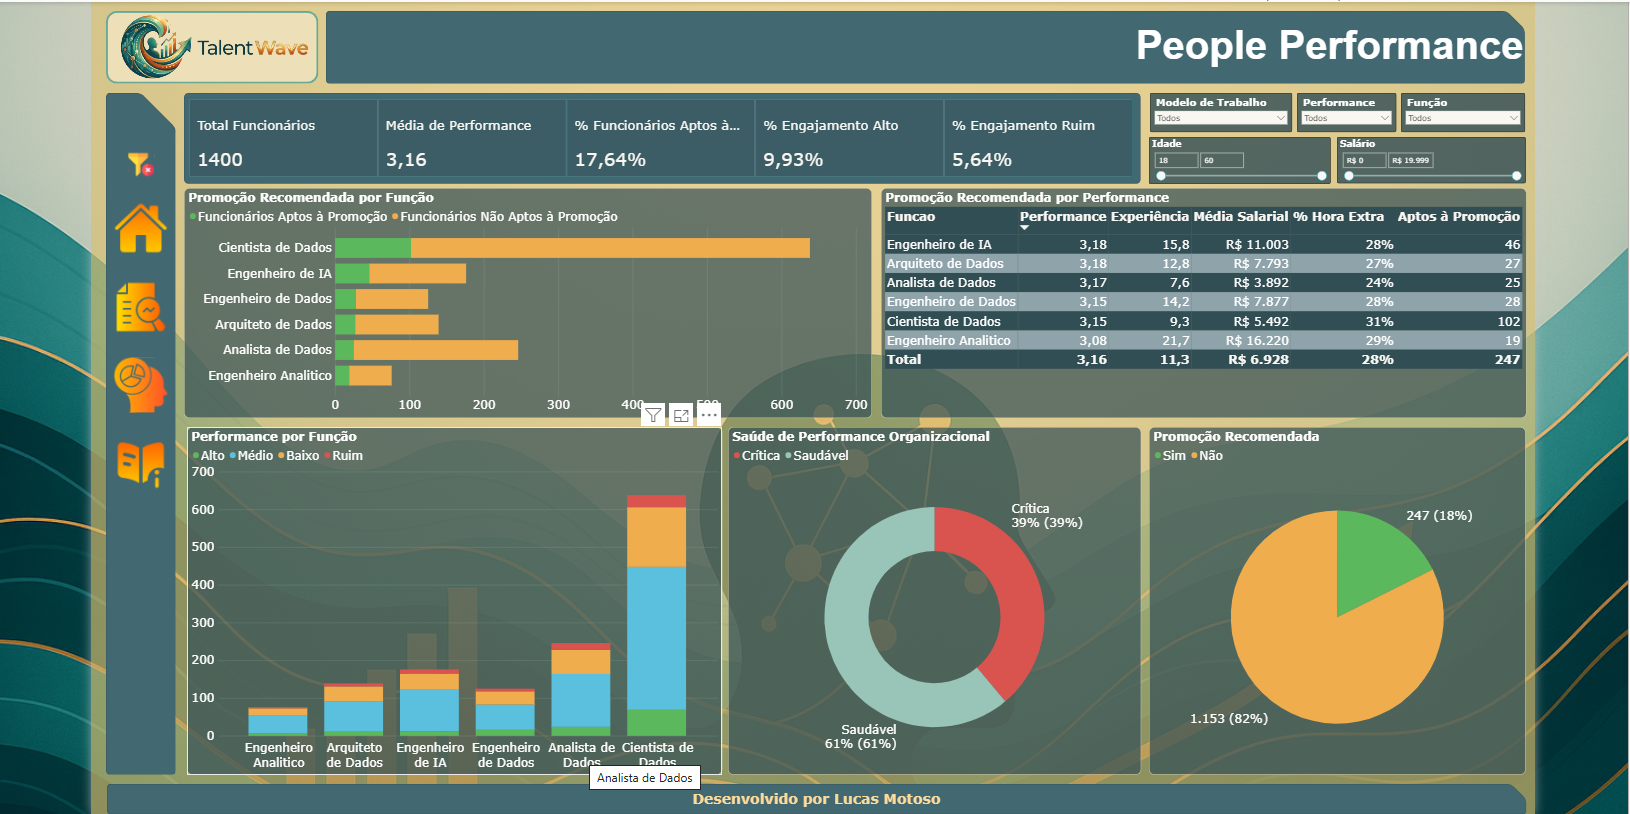

The page's visual inventory and layout, read from the dashboard file:
{"tool":"powerbi","page":{"name":"People Performance","canvas":[3840,2160],"ordinal":1},"visuals":[{"type":"group","id":"g1","title":"Logo Talent Wave","box":[0,23.6,658.2,193.4],"z":0},{"type":"shape","title":"Shape do Logo","box":[40.1,23.6,564.9,193.2],"z":0,"group":"g1"},{"type":"shape","box":[248.1,241.6,2545,241.6],"z":0,"group":"g2"},{"type":"image","title":"Logo","box":[0,23.6,658.2,190.7],"z":1000,"group":"g1"},{"type":"cardVisual","title":"Total de Funcionários","fields":{"Data":["Medidas.Total Funcionários","Medidas.Média de Performance","Medidas.% Funcionários Aptos à Promoção","Medidas.% Engajamento Alto","Medidas.% Engajamento Ruim"]},"box":[254.9,252,2522.2,218.9],"z":1000,"group":"g2"},{"type":"shape","title":"Footer","box":[41.9,2081.1,3775.6,80.5],"z":1000},{"type":"textbox","title":"Texto do Footer","box":[1534.7,2090.1,789.9,64.5],"z":2000},{"type":"shape","title":"Forma Superior","box":[625.5,23.6,3189.3,193.3],"z":3000},{"type":"shape","title":"Forma lateral esquerda","box":[40.3,241.8,185.4,1813.4],"z":4000},{"type":"barChart","title":"Promoção Recomendada por Função","fields":{"Category":["DimFuncao.Funcao"],"Y":["Medidas.Funcionários Aptos à Promoção","Medidas.Funcionários Não Aptos à Promoção"]},"box":[248.1,496.1,1829.8,612.1],"z":5000},{"type":"donutChart","title":"Saúde de Performance Organizacional","fields":{"Y":["Medidas.% Performance Crítica","Medidas.% Performance Saudável"]},"box":[1694.5,1130.7,1098.5,924.6],"z":6000},{"type":"pieChart","title":"Promoção Recomendada","fields":{"Category":["FactFuncionarios.Promocao_Recomendada"],"Y":["Medidas.Funcionários Aptos à Promoção","Medidas.Funcionários Não Aptos à Promoção"]},"box":[2815.6,1130.7,1001.9,924.6],"z":7000},{"type":"group","id":"g2","title":"Grupo 1","box":[248.1,241.6,2545,241.6],"z":8000},{"type":"slicer","fields":{"Values":["DimViagem.Viagem"]},"box":[2816,242,378,104],"z":9000},{"type":"slicer","fields":{"Values":["DimFuncao.Funcao"]},"box":[3486,242,330,104],"z":10000},{"type":"textbox","box":[2220.2,48.8,1594.6,141.7],"z":11000},{"type":"columnChart","title":"Performance por Função","fields":{"Category":["DimFuncao.Funcao"],"Y":["Medidas.Total Envolvimento Alto","Medidas.Total Envolvimento Médio","Medidas.Total Envolvimento Baixo","Medidas.Total Envolvimento Ruim"]},"box":[254.5,1130.7,1423.9,924.6],"z":12000},{"type":"pivotTable","title":"Promoção Recomendada  por Performance","fields":{"Rows":["DimFuncao.Funcao"],"Values":["Medidas.Média de Performance","Medidas.Experiência Média (Anos)","Medidas.Salário Médio Mensal","Medidas.% Disponíveis Hora Extra","Medidas.Funcionários Aptos à Promoção"]},"box":[2100.4,496.1,1717,612.1],"z":13000},{"type":"slicer","fields":{"Values":["FactFuncionarios.Indice_Envolvimento_Trabalho"]},"box":[3208,242,264,104],"z":14000},{"type":"actionButton","box":[39.9,393,186.8,77.3],"z":15000},{"type":"actionButton","box":[38.3,524.3,190.1,154.6],"z":16000},{"type":"actionButton","box":[38.3,732.9,190.1,154.6],"z":17000},{"type":"actionButton","box":[38.3,941.5,190.1,154.6],"z":18000},{"type":"actionButton","box":[38.3,1150.1,190.1,154.6],"z":19000},{"type":"slicer","title":"Idade","fields":{"Values":["FactFuncionarios.Idade"]},"box":[2815,358.3,483.3,125],"z":20000},{"type":"slicer","title":"Salário","fields":{"Values":["FactFuncionarios.Salario_Mensal"]},"box":[3315,360,501.7,123.3],"z":21000}]}

Visuals, with their boxes on the page's 3840x2160 design canvas (x1, y1, x2, y2). These are canvas units, not pixel positions in the 1630x814 screenshot, which may show the page scaled, cropped or inside an application window:
"Logo Talent Wave" group: <bbox>0, 24, 658, 217</bbox>
"Shape do Logo" shape: <bbox>40, 24, 605, 217</bbox>
shape: <bbox>248, 242, 2793, 483</bbox>
"Logo" image: <bbox>0, 24, 658, 214</bbox>
"Total de Funcionários" cardVisual: <bbox>255, 252, 2777, 471</bbox>
"Footer" shape: <bbox>42, 2081, 3818, 2162</bbox>
"Texto do Footer" textbox: <bbox>1535, 2090, 2325, 2155</bbox>
"Forma Superior" shape: <bbox>626, 24, 3815, 217</bbox>
"Forma lateral esquerda" shape: <bbox>40, 242, 226, 2055</bbox>
"Promoção Recomendada por Função" barChart: <bbox>248, 496, 2078, 1108</bbox>
"Saúde de Performance Organizacional" donutChart: <bbox>1694, 1131, 2793, 2055</bbox>
"Promoção Recomendada" pieChart: <bbox>2816, 1131, 3818, 2055</bbox>
"Grupo 1" group: <bbox>248, 242, 2793, 483</bbox>
slicer - DimViagem.Viagem: <bbox>2816, 242, 3194, 346</bbox>
slicer - DimFuncao.Funcao: <bbox>3486, 242, 3816, 346</bbox>
textbox: <bbox>2220, 49, 3815, 190</bbox>
"Performance por Função" columnChart: <bbox>254, 1131, 1678, 2055</bbox>
"Promoção Recomendada  por Performance" pivotTable: <bbox>2100, 496, 3817, 1108</bbox>
slicer - FactFuncionarios.Indice_Envolvimento_Trabalho: <bbox>3208, 242, 3472, 346</bbox>
actionButton: <bbox>40, 393, 227, 470</bbox>
actionButton: <bbox>38, 524, 228, 679</bbox>
actionButton: <bbox>38, 733, 228, 888</bbox>
actionButton: <bbox>38, 942, 228, 1096</bbox>
actionButton: <bbox>38, 1150, 228, 1305</bbox>
"Idade" slicer: <bbox>2815, 358, 3298, 483</bbox>
"Salário" slicer: <bbox>3315, 360, 3817, 483</bbox>
